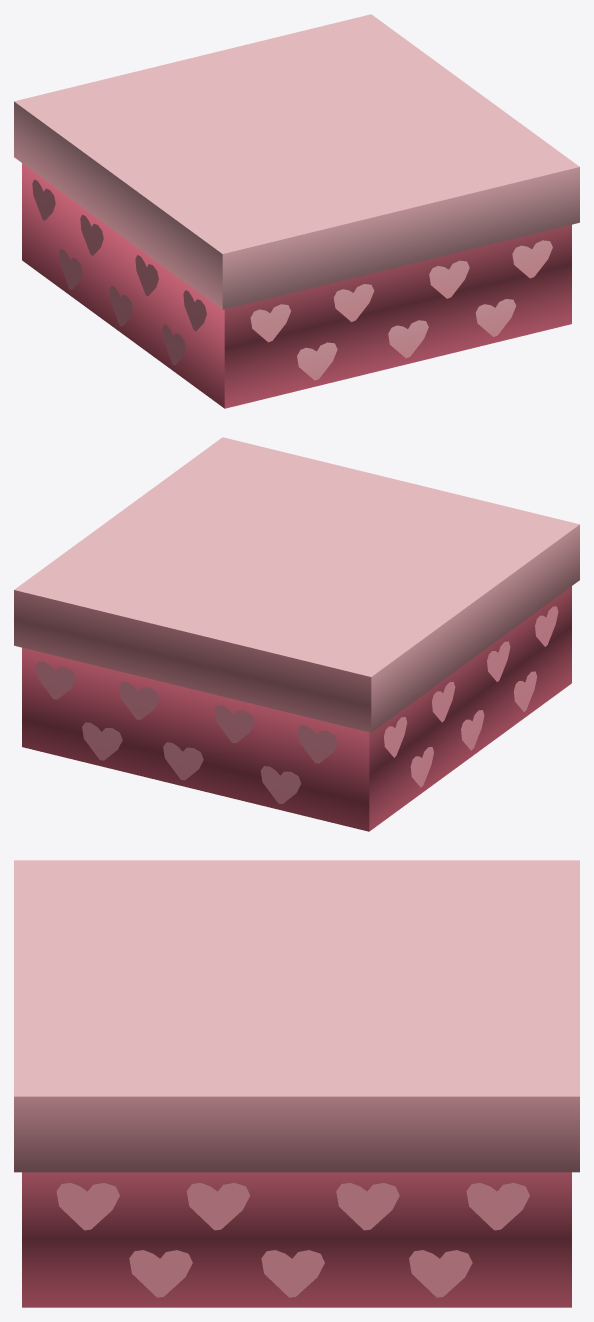
File: Doll_Giftbox_001.FBX
3 views of the same model, one above another, from view 1: azimuth 30°, elevation 25°; view 2: azimuth 150°, elevation 25°; view 3: azimuth 270°, elevation 25° (orthographic). The views are drawn at different scales.
Visible parts, largest first — view 1: Doll_Giftbox_001; view 2: Doll_Giftbox_001; view 3: Doll_Giftbox_001.
Boxes of the visible parts, left/top/right/bottom form: Doll_Giftbox_001: left=14, top=14, right=579, bottom=408; Doll_Giftbox_001: left=14, top=437, right=579, bottom=831; Doll_Giftbox_001: left=14, top=860, right=579, bottom=1307.
Size of the model in its own units: 24.35 by 10.29 by 24.63.
